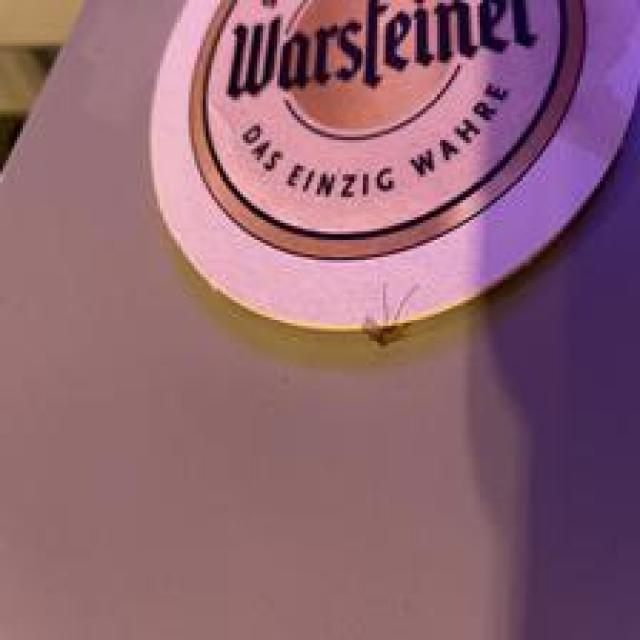Culex: (360, 282, 420, 347)
